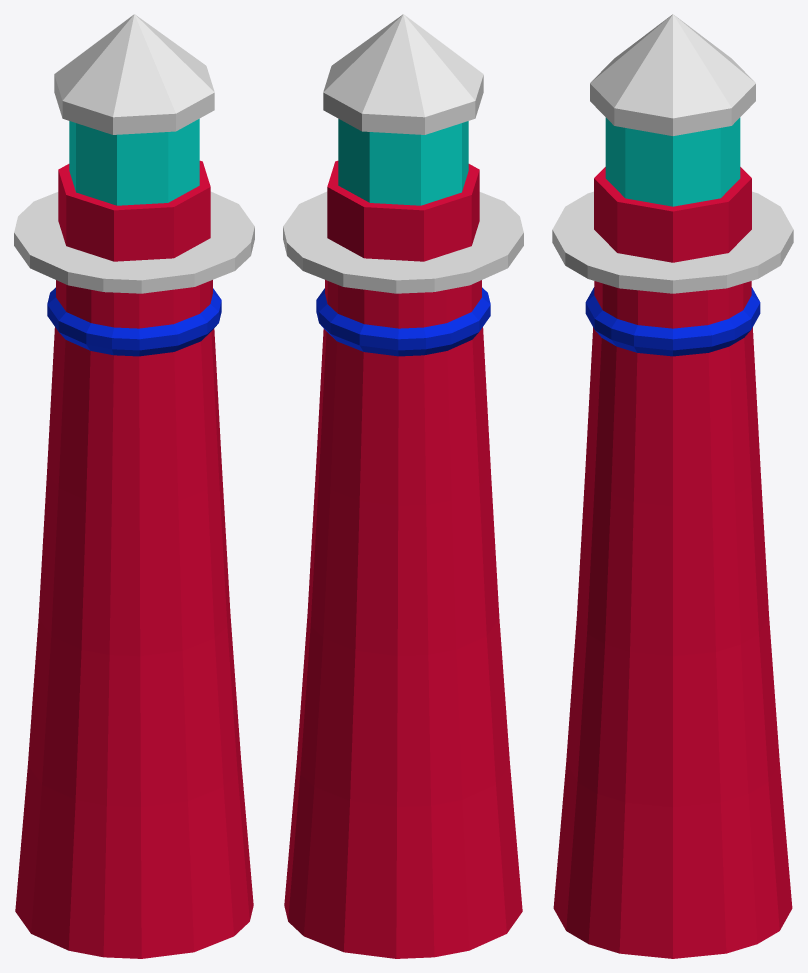
Rendered from farol.fbx.
3 views of the same model, side by side, from view 1: azimuth 30°, elevation 25°; view 2: azimuth 150°, elevation 25°; view 3: azimuth 270°, elevation 25° (orthographic).
Visible parts, largest first — view 1: farol; view 2: farol; view 3: farol.
Boxes of the visible parts, x1,y1,x2,y2 form: farol: (14,14,254,958); farol: (283,14,523,958); farol: (552,14,793,958).
Size of the model in its own units: 546 by 2236 by 546.
